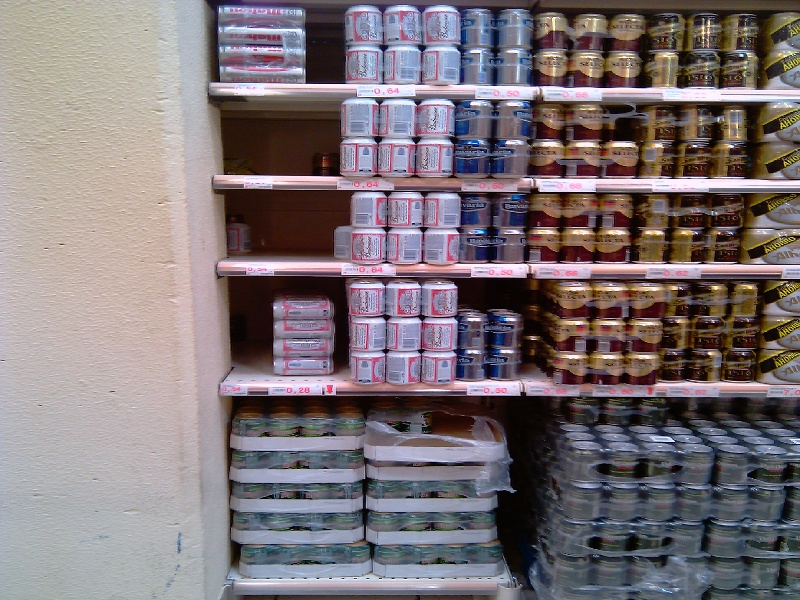beer: (384, 274, 425, 321), (348, 346, 392, 388), (488, 309, 528, 355), (494, 99, 536, 142), (338, 97, 378, 142), (420, 277, 459, 322), (337, 137, 378, 179), (454, 302, 491, 348), (386, 189, 427, 230), (493, 139, 535, 179), (419, 99, 458, 142), (381, 100, 422, 140), (385, 347, 424, 389), (378, 139, 419, 178), (424, 192, 462, 233), (419, 140, 457, 179), (350, 277, 386, 318), (351, 190, 390, 227), (457, 140, 492, 180), (422, 348, 456, 385)
